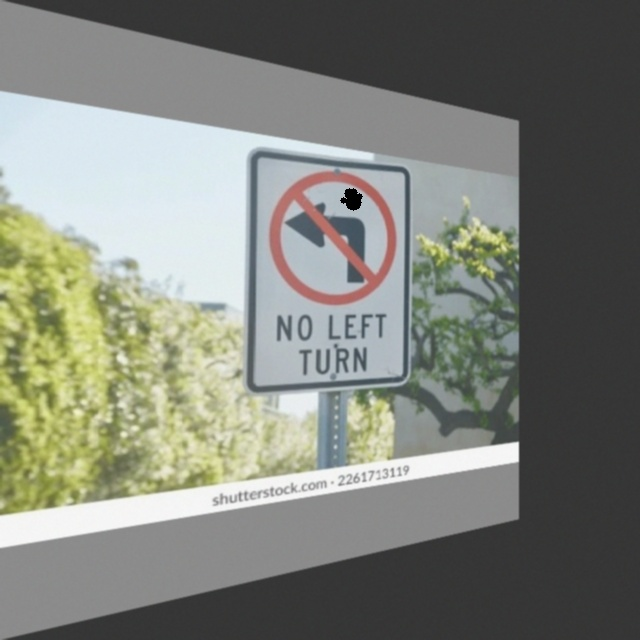Left_Turn_Prohibited: (263, 159, 399, 309)
